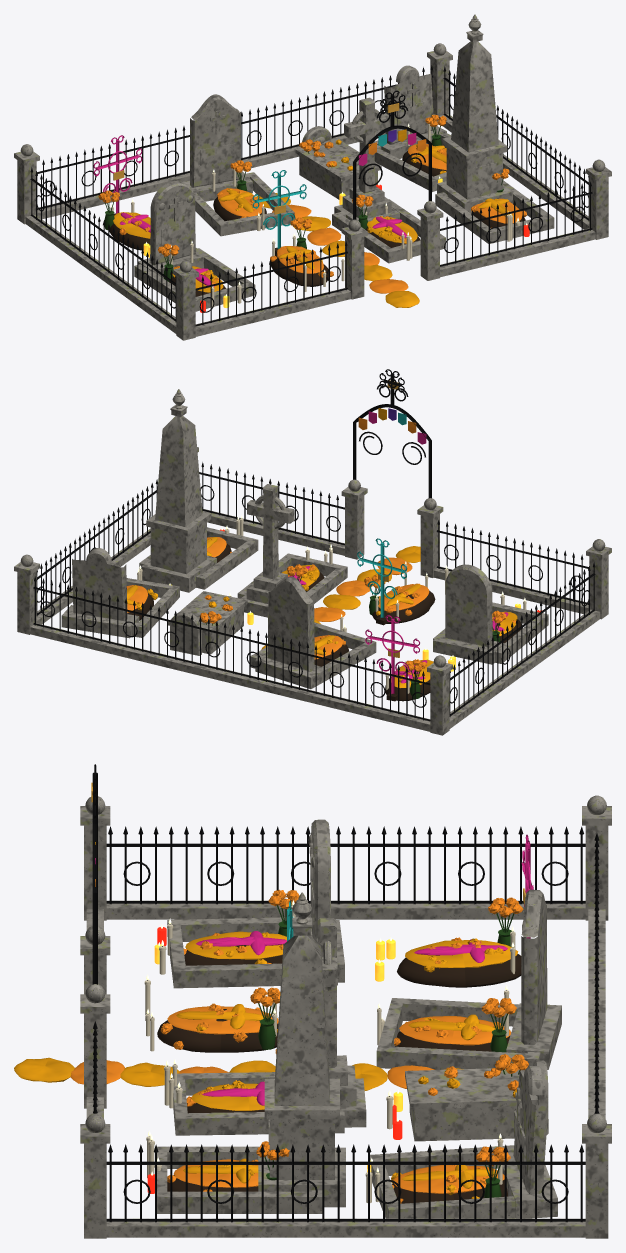
File: w3_bg_cementerio_set.glb
The picture shows the model from 3 angles, top to bottom: view 1: azimuth 30°, elevation 25°; view 2: azimuth 150°, elevation 25°; view 3: azimuth 270°, elevation 25°; orthographic projection. The views are drawn at different scales.
Visible parts, largest first — view 1: w3_bg_cementerio_set; view 2: w3_bg_cementerio_set; view 3: w3_bg_cementerio_set.
Part boxes in pixels (x1,y1,x2,y2): w3_bg_cementerio_set: [14, 14, 611, 340]; w3_bg_cementerio_set: [14, 369, 611, 735]; w3_bg_cementerio_set: [14, 764, 611, 1238].
Size of the model in its own units: 6.24 by 2.75 by 4.77.
Materials: 3 (2 with a texture image).
